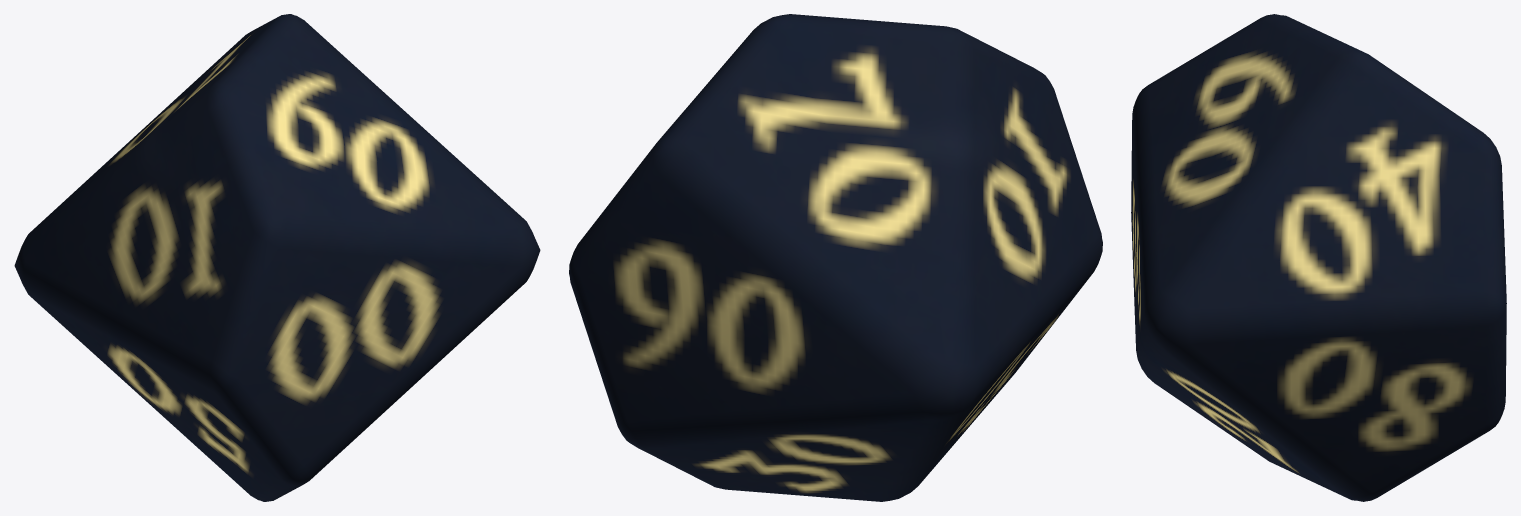
3 views of the same model, side by side, from view 1: azimuth 30°, elevation 25°; view 2: azimuth 150°, elevation 25°; view 3: azimuth 270°, elevation 25° (orthographic). The views are drawn at different scales.
Visible parts, largest first — view 1: D100_LP; view 2: D100_LP; view 3: D100_LP.
Boxes of the visible parts, bbox=[...] form: D100_LP: bbox=[14, 14, 540, 501]; D100_LP: bbox=[569, 14, 1102, 501]; D100_LP: bbox=[1131, 14, 1506, 501].
Size of the model in its own units: 0.011 by 0.0123 by 0.00949.
Materials: 1 (1 with a texture image).
